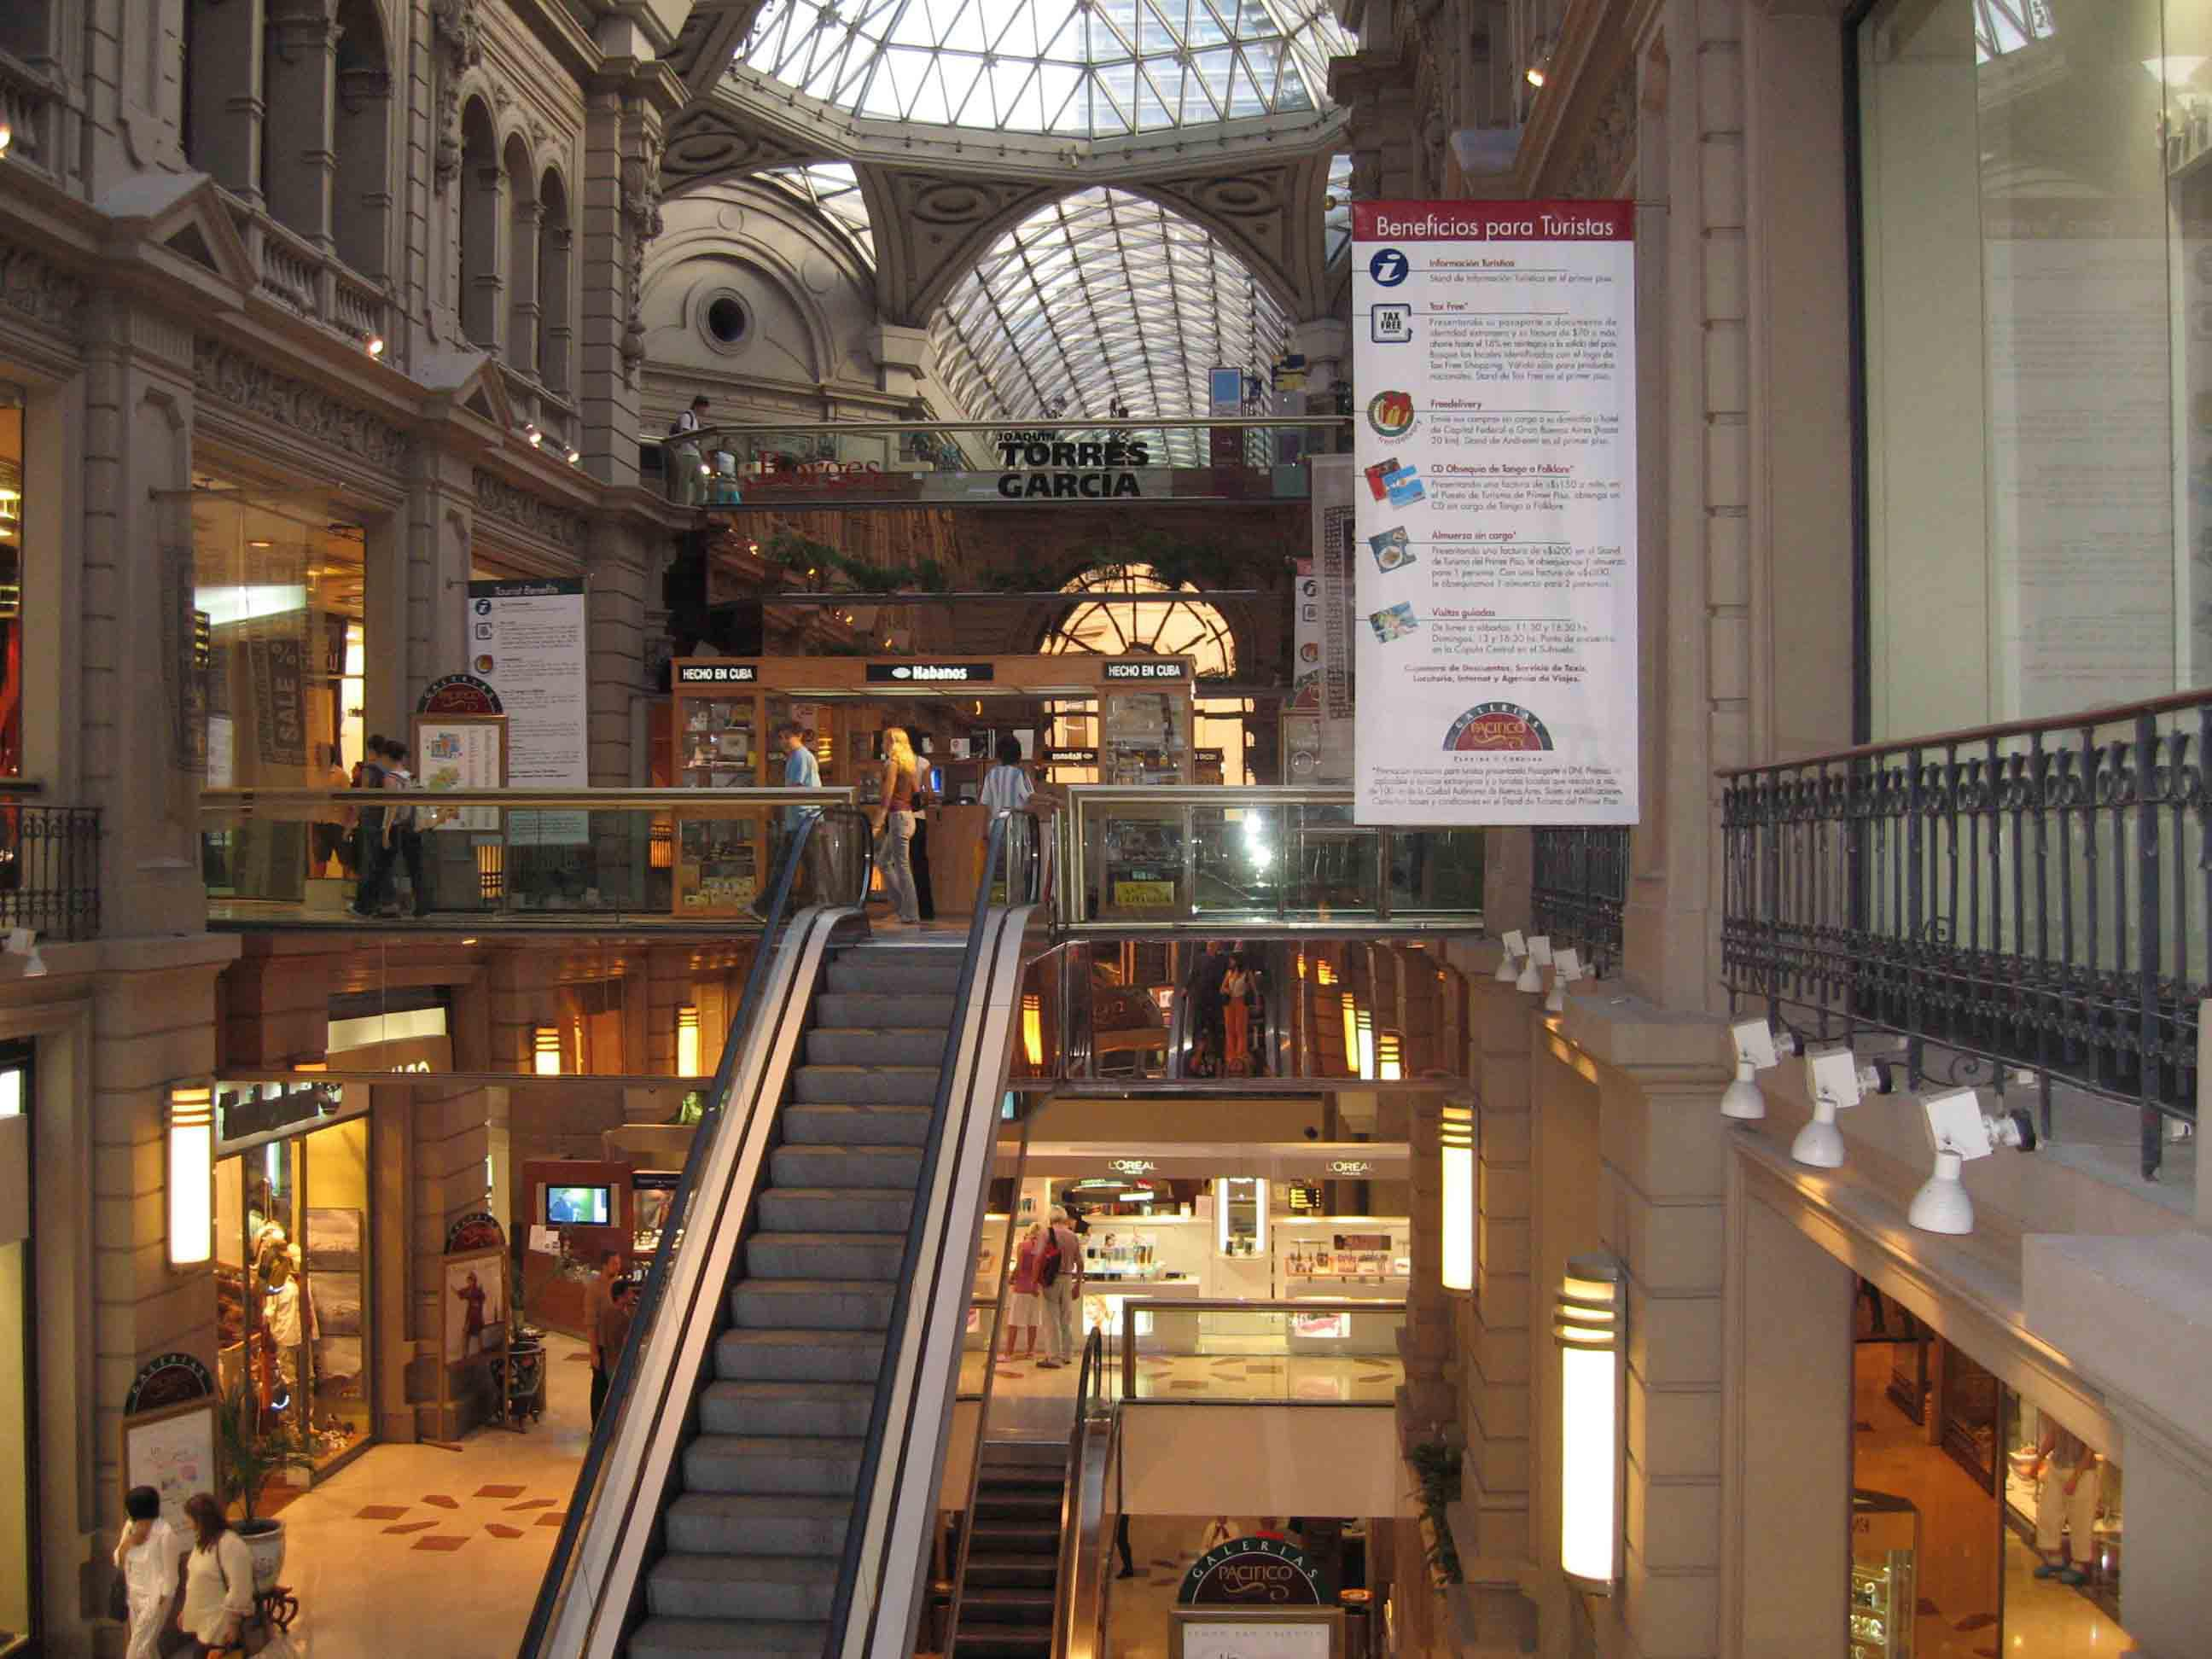Escaleras: (496, 821, 1085, 1652)
